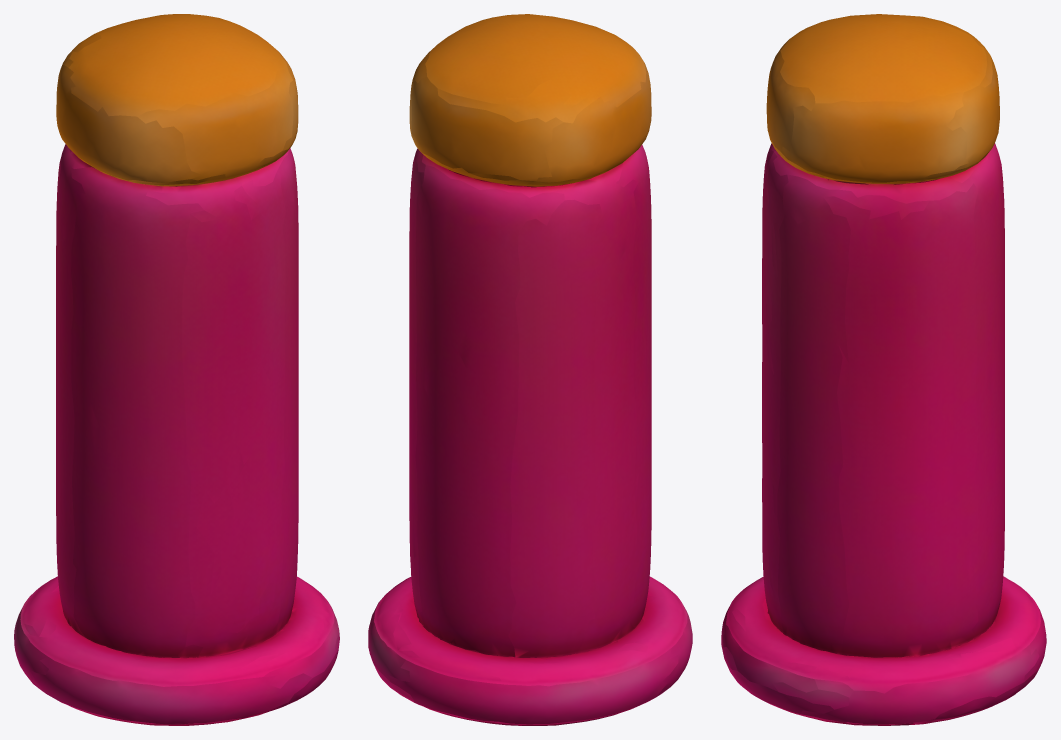
Rendered from PROP_C1_BUMPER.glb.
The picture shows the model from 3 angles, left to right: view 1: azimuth 30°, elevation 25°; view 2: azimuth 150°, elevation 25°; view 3: azimuth 270°, elevation 25°; orthographic projection.
Parts seen in each view (by area): view 1: world; view 2: world; view 3: world.
Boxes of the visible parts, left/top/right/bottom form: world: left=14, top=14, right=339, bottom=725; world: left=368, top=14, right=692, bottom=725; world: left=721, top=14, right=1046, bottom=725.
Bounding box in the file's own units: 0.4617 × 1 × 0.4617.
Materials: 1 (1 with a texture image).
